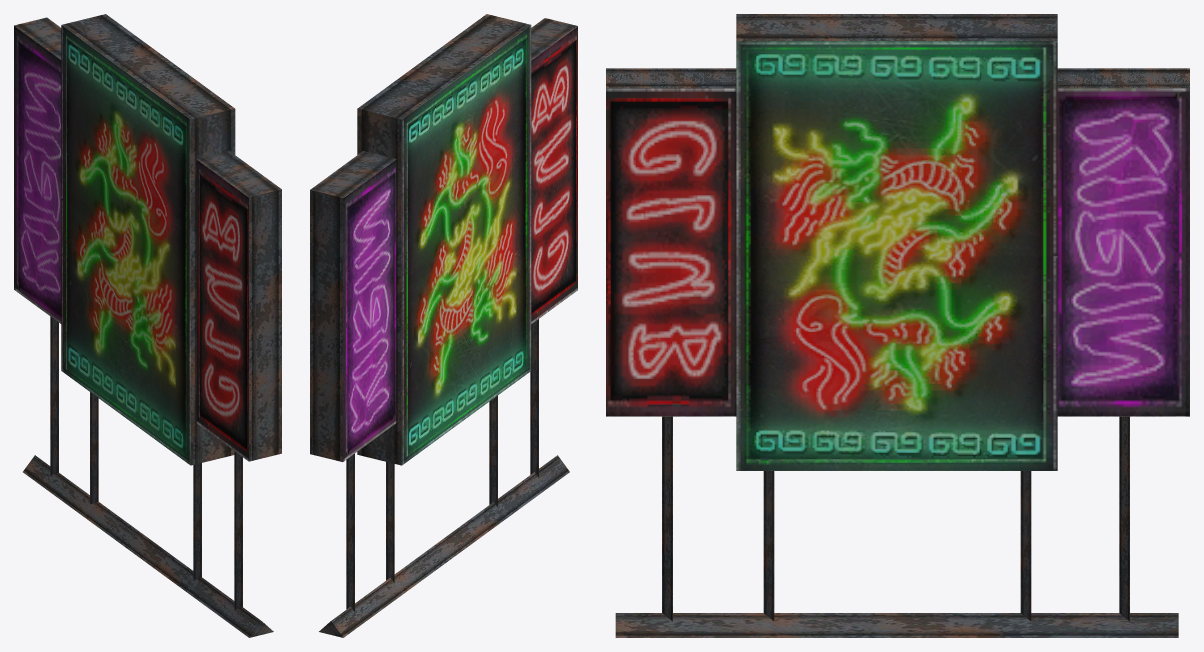
The model's file is kirin.fbx.
3 views of the same model, side by side, from view 1: azimuth 30°, elevation 25°; view 2: azimuth 150°, elevation 25°; view 3: azimuth 270°, elevation 25° (orthographic). The views are drawn at different scales.
Parts seen in each view (by area): view 1: mesh_0; view 2: mesh_0; view 3: mesh_0.
Part boxes in pixels (bbox=[...]): mesh_0: bbox=[14, 14, 281, 637]; mesh_0: bbox=[310, 14, 577, 637]; mesh_0: bbox=[606, 14, 1189, 637].
Bounding box in the file's own units: 44.68 × 466 × 409.
Materials: 1 (1 with a texture image).
